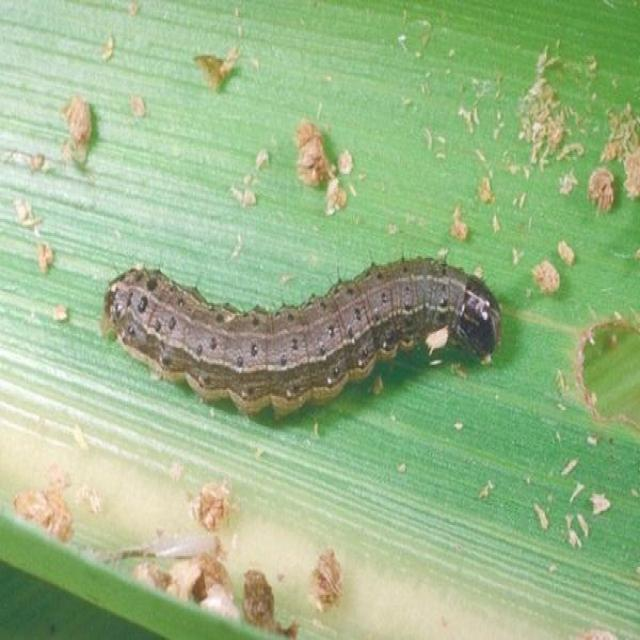cornborer-Larva-: (93, 208, 522, 416)
